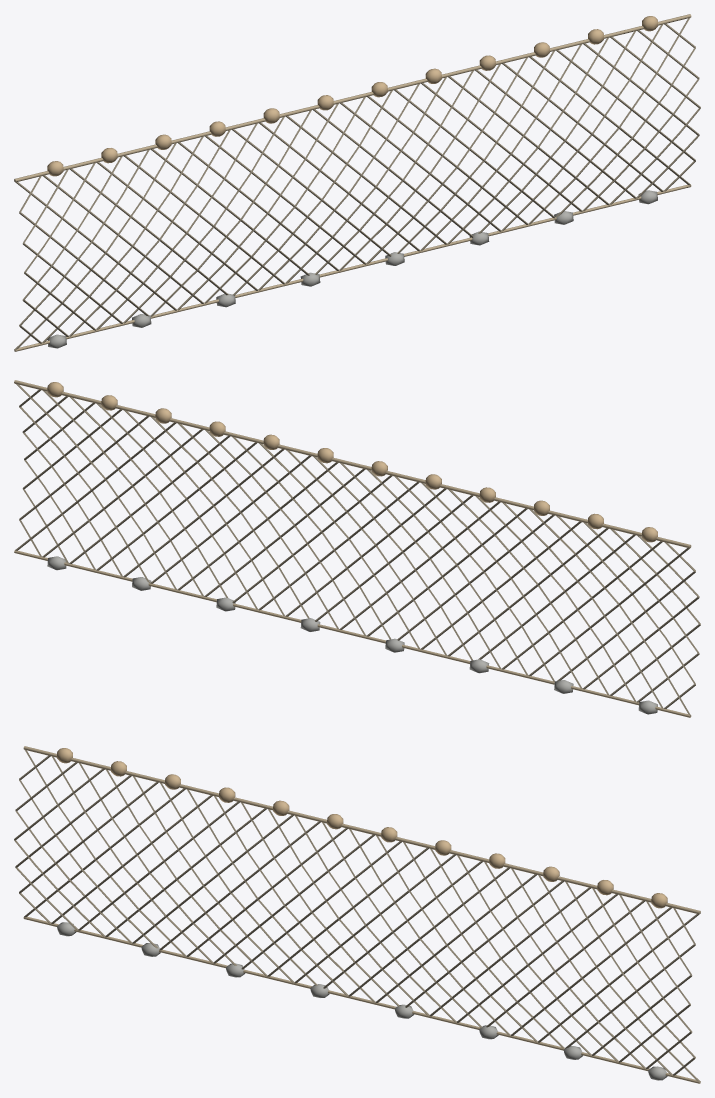
Rendered from fishnet.glb.
The picture shows the model from 3 angles, top to bottom: view 1: azimuth 30°, elevation 25°; view 2: azimuth 150°, elevation 25°; view 3: azimuth 330°, elevation 25°; orthographic projection.
Visible parts, largest first — view 1: fishnet; view 2: fishnet; view 3: fishnet.
Part boxes in pixels (bbox=[...]): fishnet: bbox=[14, 14, 700, 351]; fishnet: bbox=[14, 380, 700, 717]; fishnet: bbox=[14, 746, 700, 1083].
Size of the model in its own units: 10.02 by 2.65 by 0.3661.
